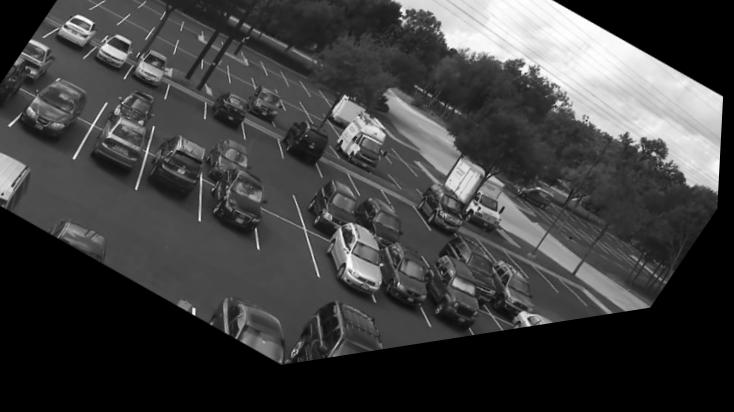empty: (120, 250, 199, 322), (267, 217, 324, 287), (66, 67, 114, 106), (538, 284, 589, 320), (164, 87, 208, 128), (516, 275, 556, 309), (390, 208, 430, 242), (352, 186, 392, 217), (269, 181, 296, 225), (247, 132, 281, 166), (115, 23, 152, 49), (384, 159, 416, 187), (162, 124, 196, 150), (484, 257, 519, 282), (323, 172, 356, 198), (90, 8, 125, 32), (173, 51, 203, 77), (145, 38, 176, 63), (203, 67, 232, 93), (412, 250, 443, 273), (101, 1, 133, 23), (311, 124, 339, 147), (49, 1, 77, 24), (284, 112, 313, 134), (203, 55, 228, 80), (159, 15, 185, 39), (482, 328, 509, 351), (127, 16, 158, 36), (151, 31, 182, 51), (85, 13, 111, 34), (139, 5, 167, 24), (179, 42, 203, 64), (229, 69, 254, 90), (245, 56, 265, 82), (304, 108, 329, 128), (254, 80, 277, 101), (35, 20, 59, 40), (279, 97, 304, 116), (181, 25, 203, 46), (230, 81, 254, 100), (307, 96, 330, 115), (63, 0, 98, 12), (268, 73, 287, 95), (288, 85, 308, 104), (279, 125, 303, 137), (121, 0, 144, 12), (214, 92, 232, 103), (90, 0, 107, 6)
occupied: (214, 300, 289, 375), (298, 311, 382, 373), (20, 77, 93, 146), (322, 234, 387, 308), (429, 271, 483, 347), (211, 174, 268, 245), (151, 139, 207, 211), (92, 115, 151, 180), (380, 256, 430, 326), (418, 199, 476, 255), (50, 216, 112, 267), (338, 124, 388, 186), (0, 151, 46, 216), (355, 209, 407, 261), (281, 132, 330, 186), (446, 253, 497, 304), (308, 191, 358, 241), (497, 277, 536, 334), (0, 56, 35, 111), (207, 148, 249, 190), (55, 17, 98, 55), (211, 101, 249, 140), (247, 94, 285, 132), (19, 41, 55, 79), (95, 38, 132, 74), (133, 55, 167, 93), (120, 97, 155, 127)
